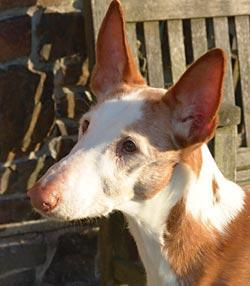Ibizan_hound: (21, 1, 249, 285)
